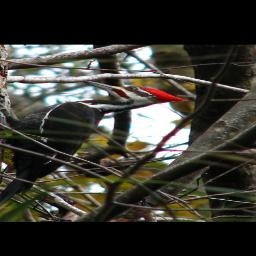Woodpecker: (0, 80, 188, 209)
